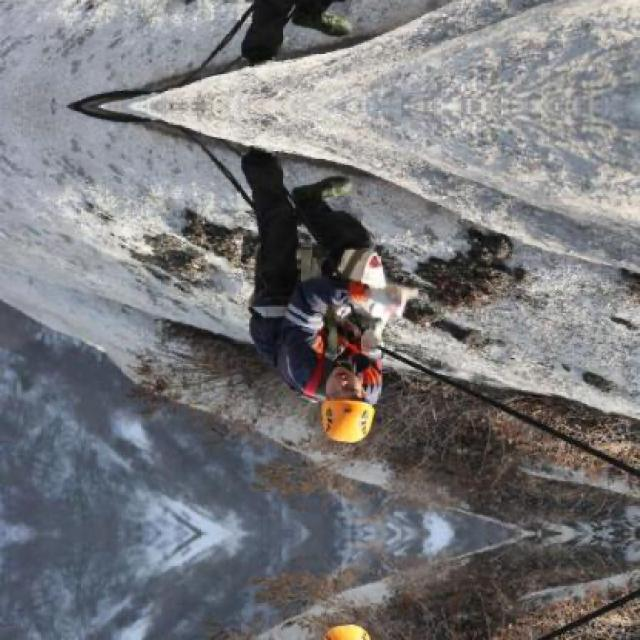con casco: (297, 359, 396, 441)
